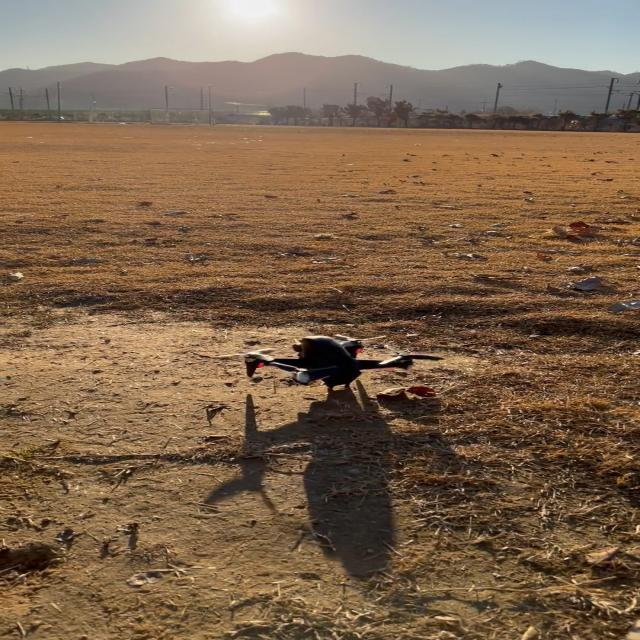drone: (192, 333, 444, 392)
